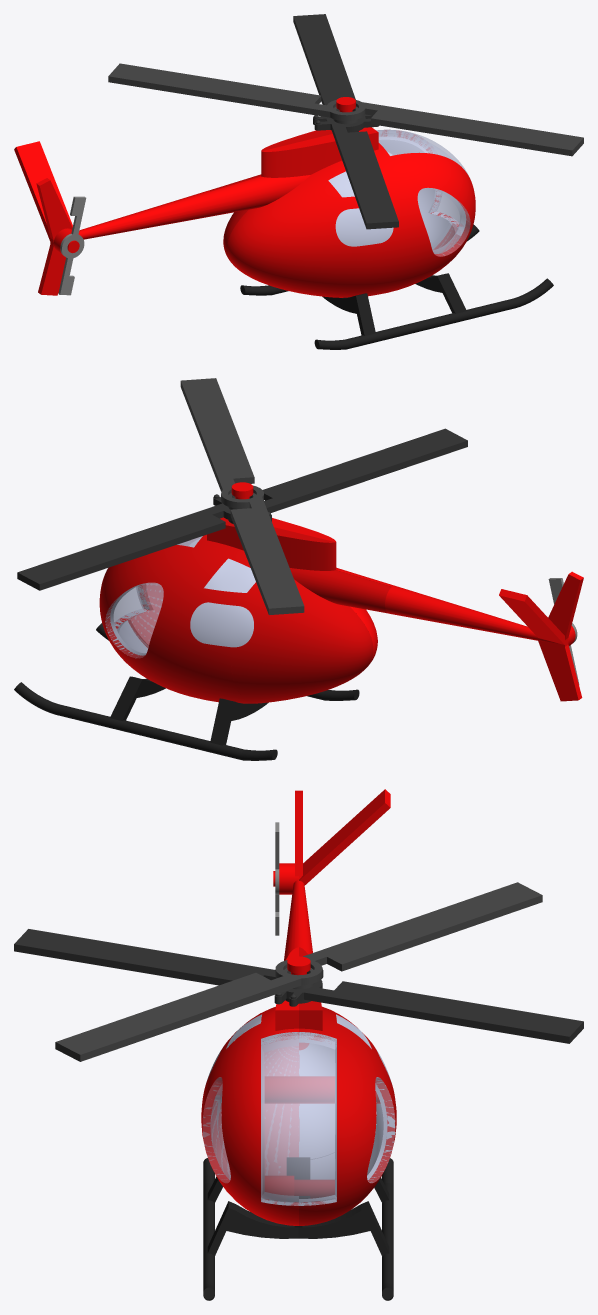
Rendered from helicopter_8b611680.glb.
The picture shows the model from 3 angles, top to bottom: view 1: azimuth 30°, elevation 25°; view 2: azimuth 150°, elevation 25°; view 3: azimuth 270°, elevation 25°; orthographic projection. The views are drawn at different scales.
Visible parts, largest first — view 1: Object_20, Object_25, Object_24, Object_22, Object_17, Object_4, Object_12, Object_15, Object_23, Object_21, Object_19, Object_3; view 2: Object_21, Object_24, Object_20, Object_25, Object_22, Object_9, Object_5, Object_19, Object_7, Object_12, Object_4; view 3: Object_20, Object_25, Object_24, Object_4, Object_21, Object_22, Object_11, Object_19, Object_12, Object_9, Object_17.
Part boxes in pixels (left/top/right/bottom): Object_20: left=14, top=97, right=475, bottom=297; Object_25: left=108, top=63, right=583, bottom=156; Object_24: left=293, top=14, right=398, bottom=229; Object_22: left=240, top=224, right=553, bottom=349; Object_17: left=417, top=187, right=470, bottom=256; Object_4: left=376, top=129, right=469, bottom=222; Object_12: left=379, top=136, right=451, bottom=244; Object_15: left=335, top=208, right=393, bottom=246; Object_23: left=58, top=196, right=86, bottom=295; Object_21: left=208, top=130, right=455, bottom=267; Object_19: left=431, top=188, right=465, bottom=253; Object_3: left=377, top=129, right=457, bottom=222; Object_21: left=99, top=517, right=391, bottom=703; Object_24: left=17, top=428, right=467, bottom=590; Object_20: left=120, top=482, right=583, bottom=701; Object_25: left=180, top=378, right=304, bottom=614; Object_22: left=14, top=623, right=359, bottom=760; Object_9: left=105, top=582, right=163, bottom=658; Object_5: left=190, top=602, right=253, bottom=647; Object_19: left=126, top=537, right=201, bottom=647; Object_7: left=204, top=558, right=255, bottom=592; Object_12: left=110, top=584, right=147, bottom=655; Object_4: left=105, top=536, right=202, bottom=623; Object_20: left=201, top=789, right=390, bottom=1225; Object_25: left=55, top=882, right=542, bottom=1061; Object_24: left=14, top=929, right=583, bottom=1043; Object_4: left=261, top=1032, right=336, bottom=1205; Object_21: left=220, top=947, right=396, bottom=1225; Object_22: left=203, top=1157, right=393, bottom=1300; Object_11: left=299, top=1043, right=334, bottom=1159; Object_19: left=210, top=1039, right=298, bottom=1201; Object_12: left=299, top=1039, right=387, bottom=1201; Object_9: left=367, top=1077, right=395, bottom=1183; Object_17: left=202, top=1077, right=230, bottom=1183.
Size of the model in its own units: 84.46 by 35.75 by 72.54.
